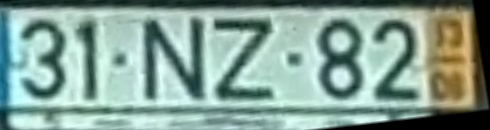1: (69, 17, 101, 103)
2: (368, 14, 422, 104)
3: (14, 17, 69, 103)
8: (311, 15, 368, 104)
N: (138, 15, 210, 103)
Z: (211, 13, 277, 106)
